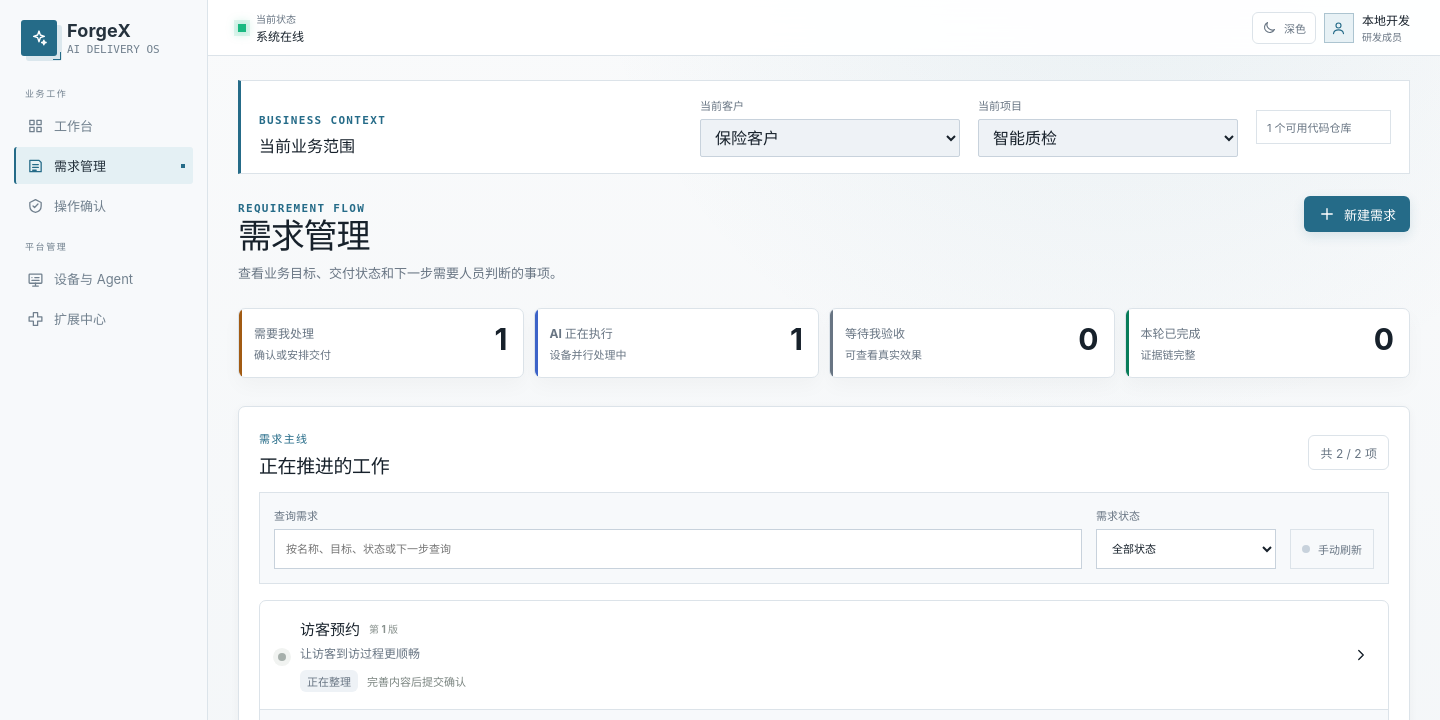
it: RequirementWorkbench › 点击需求卡片后读取并展示业务详情
Click the button with aria-label "查看访客预约详情" at (330, 629), box [260, 601, 1388, 709]
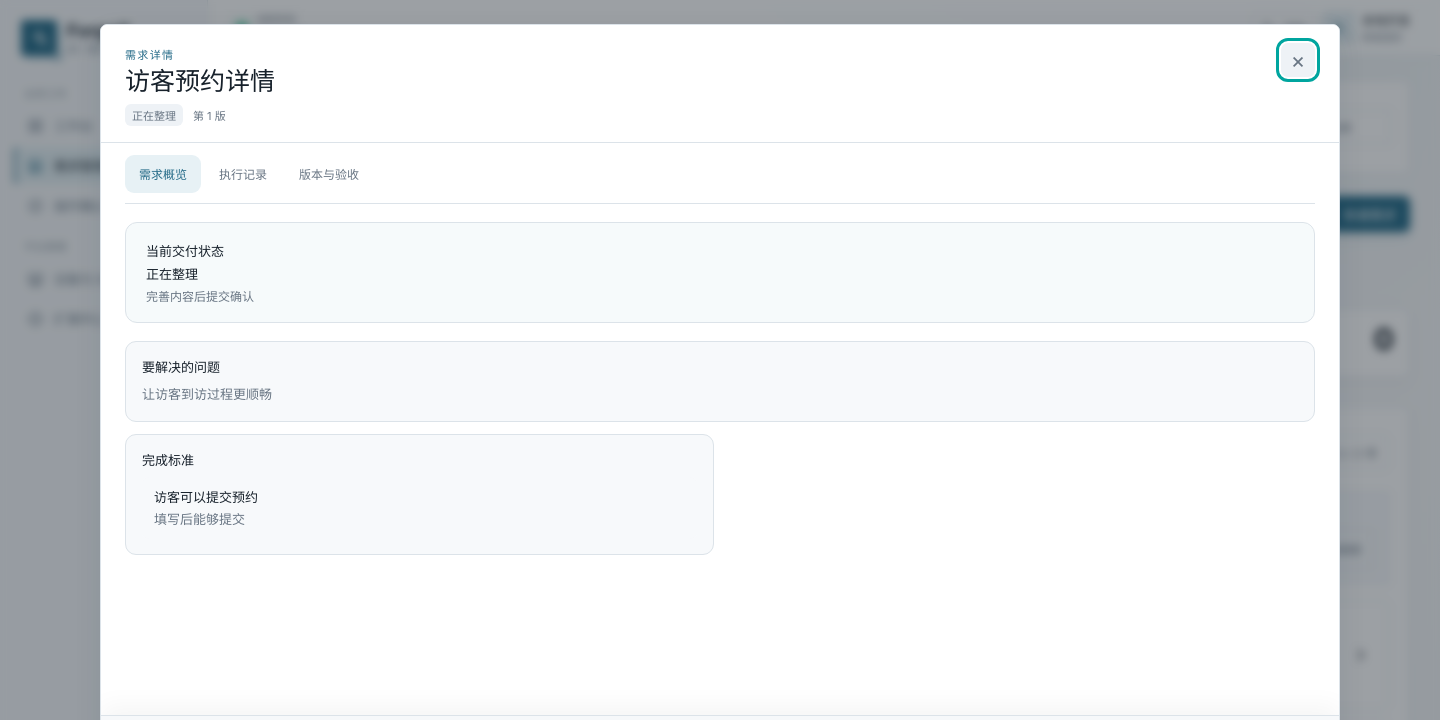
Result: the button named "关闭访客预约详情" is shown at [1281, 43, 1315, 77]
Result: the text "填写后能够提交" is shown at [154, 511, 245, 527]
Press Escape
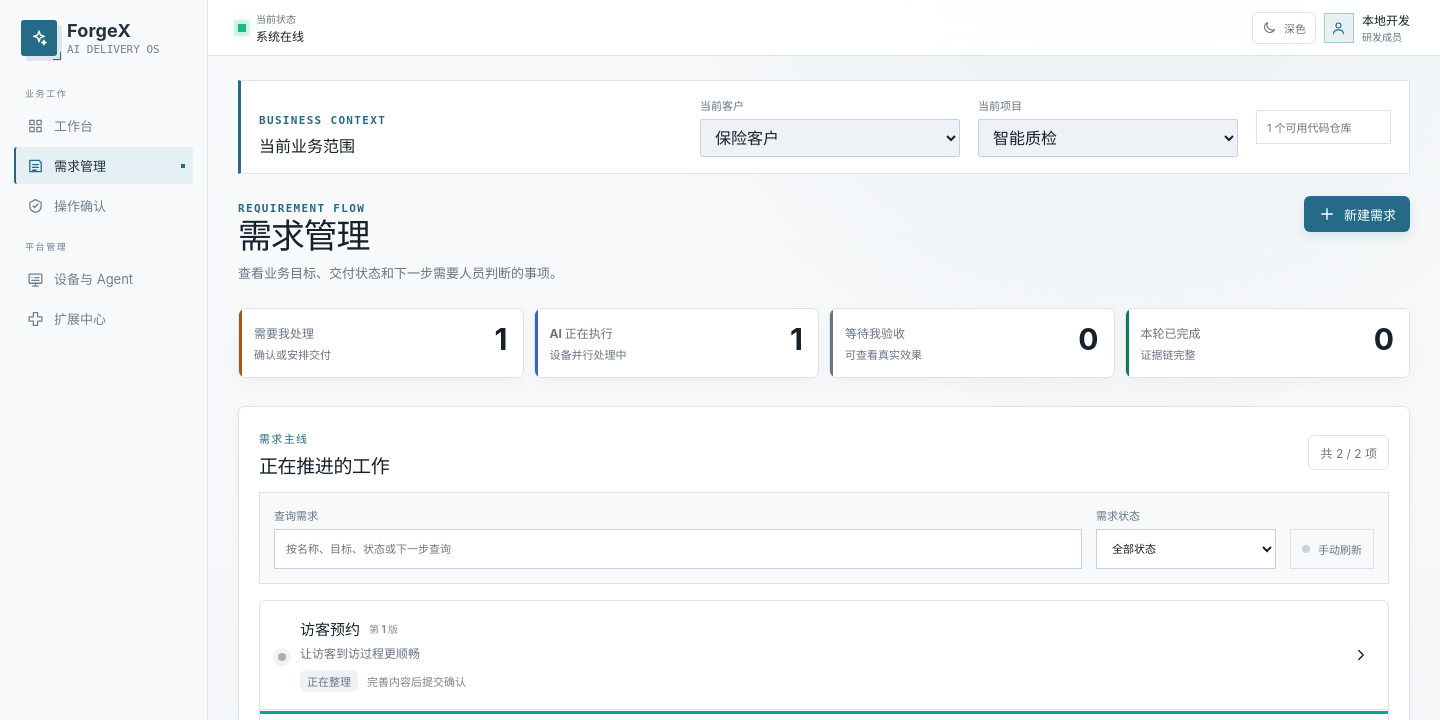
Result: the heading "访客预约详情" is gone
